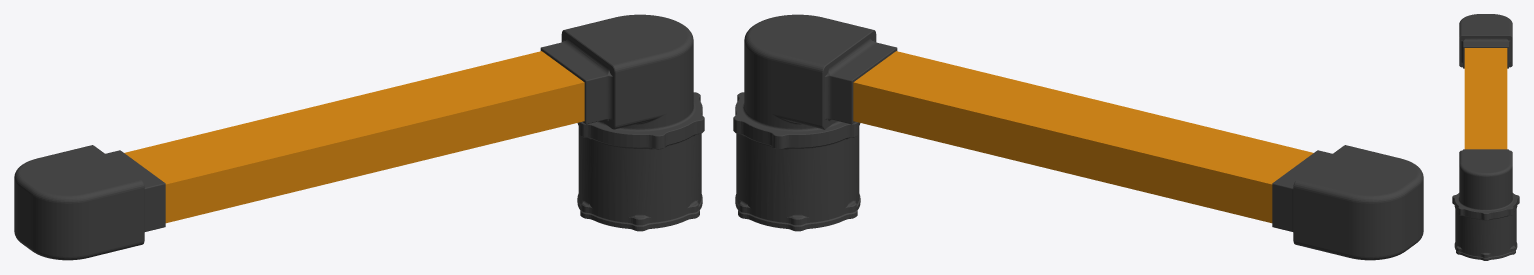
File: j4_arm_link_2.dae
The picture shows the model from 3 angles, left to right: view 1: azimuth 30°, elevation 25°; view 2: azimuth 150°, elevation 25°; view 3: azimuth 270°, elevation 25°; orthographic projection. The views are drawn at different scales.
Visible parts, largest first — view 1: Arm_two; view 2: Arm_two; view 3: Arm_two.
Part boxes in pixels (x1,y1,x2,y2): Arm_two: (14, 14, 704, 260); Arm_two: (733, 14, 1423, 260); Arm_two: (1452, 14, 1519, 260).
Bounding box in the file's own units: 0.727 × 0.1254 × 0.1813.
